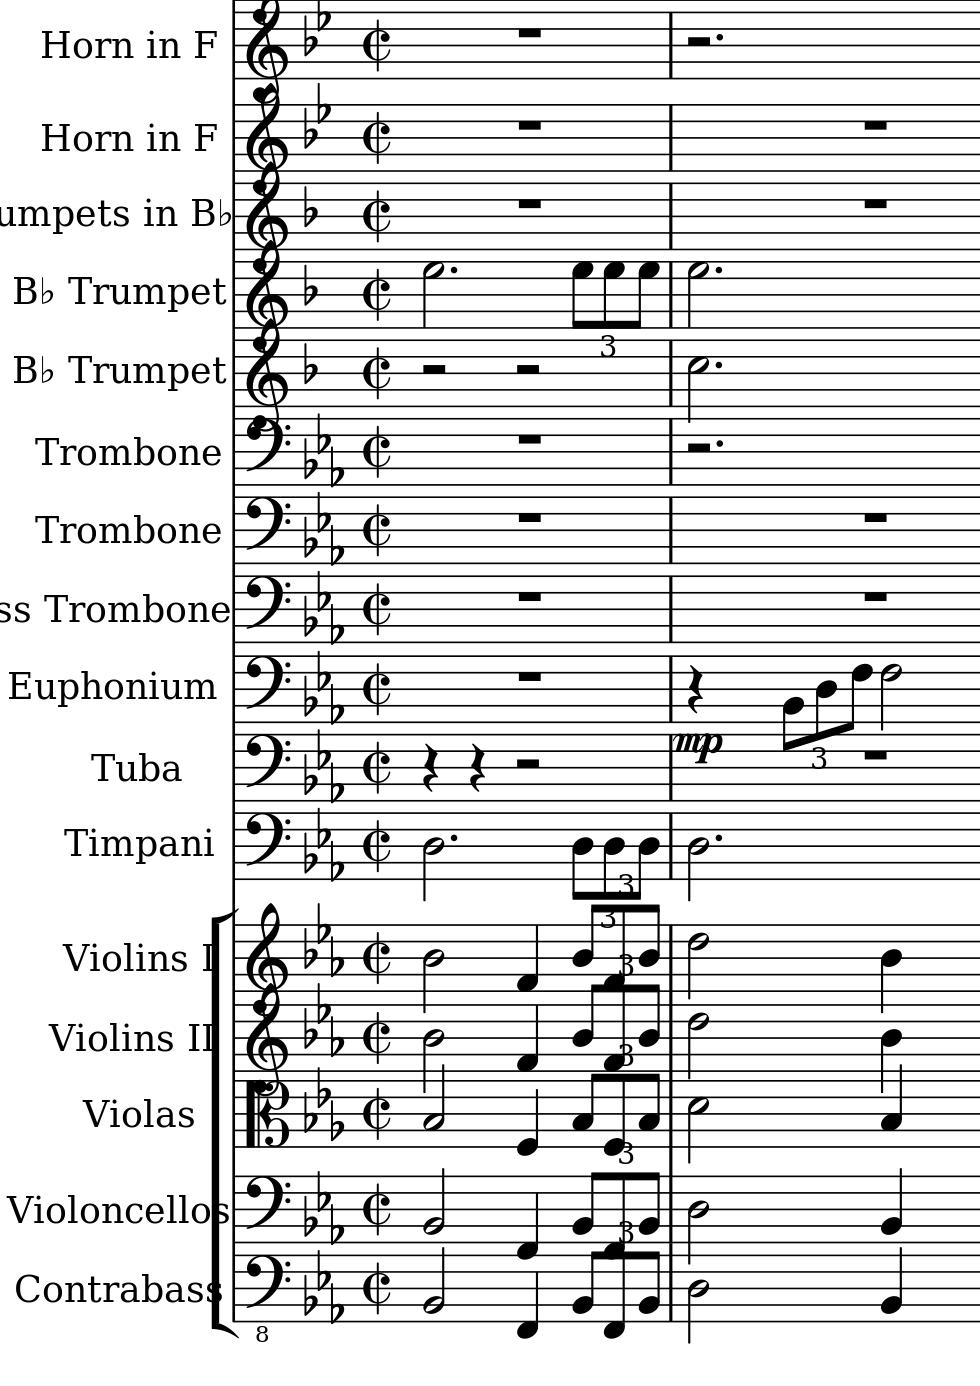2_4: (420, 922, 448, 1012), (685, 1174, 711, 1267), (686, 810, 711, 902), (685, 1269, 708, 1344)
2_5: (685, 337, 708, 422), (685, 1083, 708, 1165)
2_6: (685, 922, 710, 1001), (685, 1003, 710, 1081)
2_7: (685, 259, 710, 330)
4_1: (513, 922, 540, 992)
4_2: (880, 1164, 906, 1245)
8_7: (631, 259, 659, 330), (602, 258, 625, 330)
B_F: (300, 83, 336, 151), (301, 1, 333, 56)
Bracke: (207, 907, 238, 1340)
E_F: (299, 409, 347, 490), (299, 647, 347, 726), (299, 981, 347, 1059), (300, 1063, 346, 1144), (300, 567, 347, 647), (300, 488, 347, 566), (299, 727, 347, 803), (300, 805, 346, 882), (300, 1248, 346, 1324), (300, 902, 346, 978), (301, 1170, 345, 1244)
Fclef: (243, 810, 291, 881)
Hn: (39, 119, 134, 158), (41, 29, 136, 68)
Rests1: (514, 667, 546, 688), (859, 508, 891, 528), (514, 586, 545, 607), (859, 115, 891, 134), (859, 586, 891, 606), (860, 747, 892, 766), (514, 194, 544, 213), (860, 194, 890, 213), (514, 24, 545, 42), (514, 116, 545, 134), (514, 509, 545, 527), (514, 431, 544, 449)
Rests2: (418, 359, 451, 380), (515, 754, 547, 774), (683, 33, 713, 52), (684, 440, 713, 459)
Rests4: (684, 662, 707, 714), (421, 742, 440, 794), (467, 741, 486, 793)
Single_barline: (227, 802, 243, 881), (228, 485, 243, 566), (227, 2, 242, 80), (228, 1246, 242, 1324), (662, 13, 678, 78), (664, 106, 678, 170), (664, 498, 677, 564), (664, 577, 677, 643), (664, 420, 677, 483), (664, 341, 677, 403), (665, 264, 678, 324), (665, 656, 676, 724), (665, 185, 676, 233)
TimeSig: (360, 182, 396, 252), (362, 12, 399, 80), (358, 339, 393, 407), (361, 573, 393, 644), (361, 1078, 393, 1150), (360, 496, 393, 564), (361, 923, 393, 993), (361, 261, 393, 330), (361, 417, 393, 486), (361, 1253, 393, 1322), (358, 1004, 391, 1072), (360, 1173, 391, 1242), (363, 102, 393, 173), (363, 655, 393, 724), (362, 733, 392, 802), (363, 810, 392, 881)
dot: (712, 832, 727, 844), (447, 264, 461, 276), (447, 831, 459, 844), (713, 437, 725, 450), (714, 31, 727, 43), (713, 264, 727, 276), (713, 359, 722, 370)
mp: (668, 731, 729, 766)
